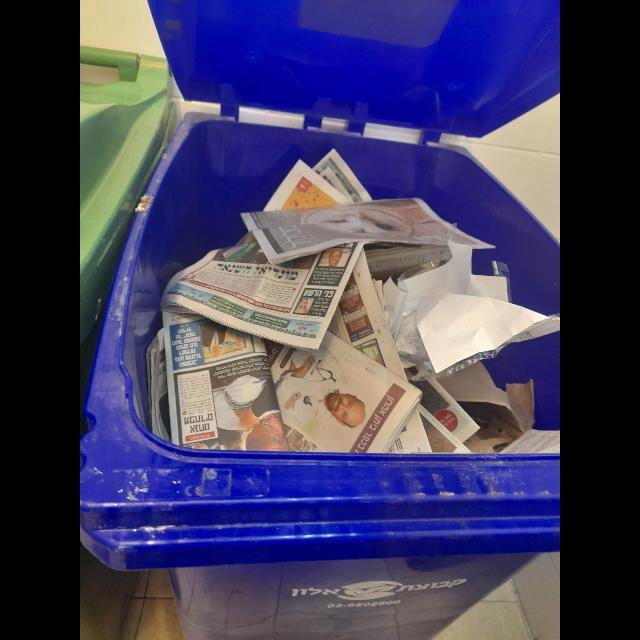paper: (160, 233, 362, 351), (403, 241, 560, 375), (264, 332, 422, 453), (162, 312, 289, 452), (241, 198, 495, 265), (329, 250, 408, 382), (263, 148, 374, 212), (389, 407, 432, 454)
